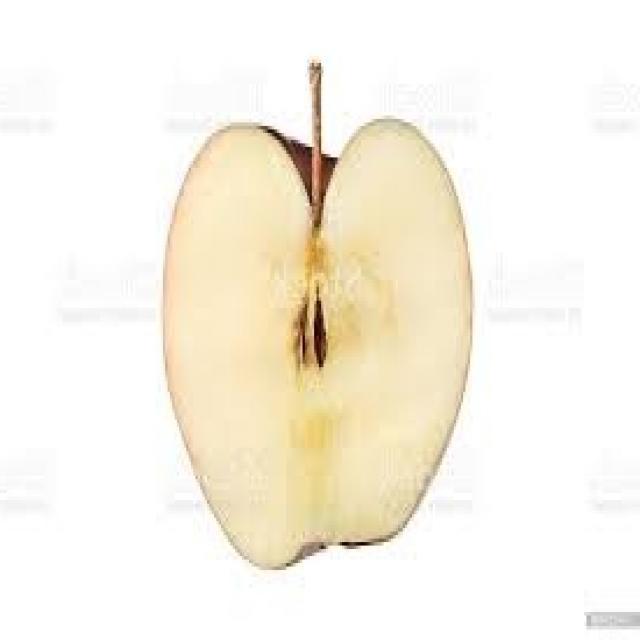Apple: (151, 87, 475, 584)
